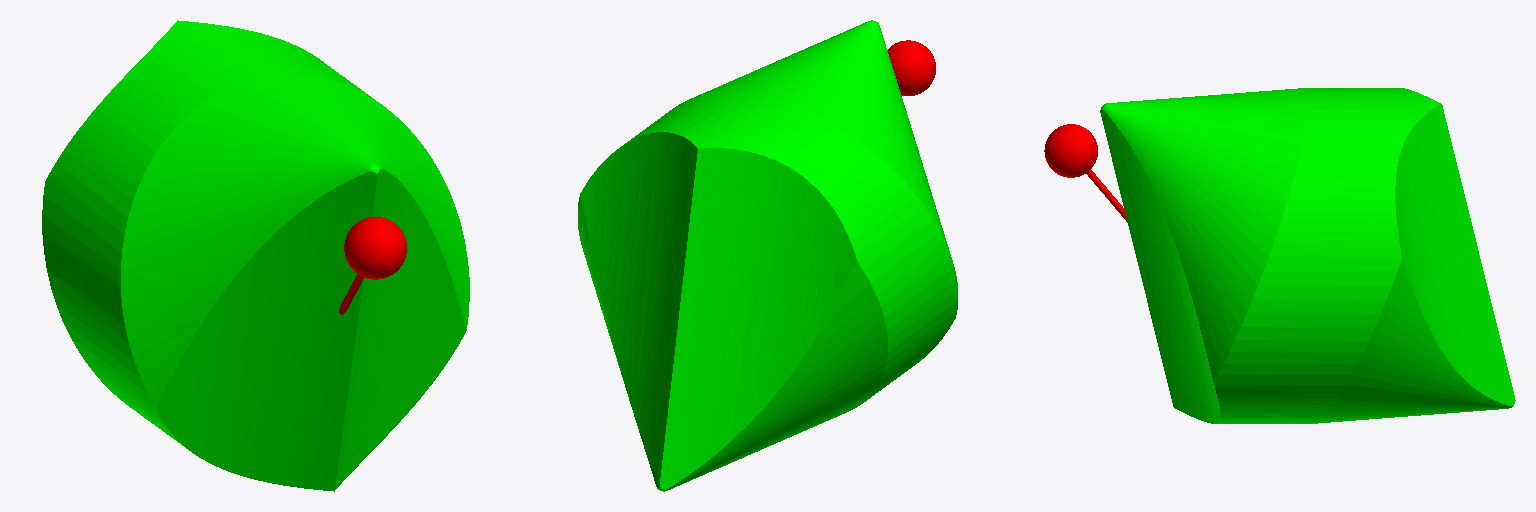
The robot description file, URDF, robot "balo":
<?xml version="1.0" ?>
<robot name="balo">
  <link name="pendulum_1">
    <visual name="pendulum_1_visual">
      <origin xyz="0 0 0" rpy="0 0 0"/>
      <geometry>
        <mesh filename="meshes/pendulum_1.stl"/>
      </geometry>
      <material name="pendulum_1-material">
        <color rgba="1 0 0 1"/>
      </material>
    </visual>
    <!-- <collision name="pendulum_1_collision">
      <origin xyz="0 0 0" rpy="0 0 0"/>
      <geometry>
        <mesh filename="meshes/pendulum_1.stl"/>
      </geometry>
    </collision> -->
    <inertial>
      <mass value="0.025374834"/>
      <inertia ixx="1.1946991e-06" iyy="9.7512826e-07" izz="8.4976843e-07" ixy="-2.7082465e-08" ixz="-3.3853081e-08" iyz="-2.7857741e-07"/>
      <origin xyz="0 0 0" rpy="0 0 0"/>
    </inertial>
  </link>
  <link name="shell_1">
    <visual name="shell_1_visual">
      <origin xyz="0 0 0" rpy="0 0 0"/>
      <geometry>
        <mesh filename="meshes/shell_1.stl"/>
      </geometry>
      <material name="shell_1-material">
        <color rgba="0 1 0 0.2"/>
      </material>
    </visual>
    <collision name="shell_1_collision">
      <origin xyz="0 0 0" rpy="0 0 0"/>
      <geometry>
        <mesh filename="meshes/shell_1.stl"/>
      </geometry>
    </collision>
    <inertial>
      <mass value="0.088972445"/>
      <inertia ixx="0.00016871499" iyy="0.00016409992" izz="0.00014338628" ixy="-9.9018315e-10" ixz="-2.1273976e-09" iyz="-4.8280764e-06"/>
      <origin xyz="-2.0417737e-06 -1.2557234e-07 6.5662558e-07" rpy="0 0 0"/>
    </inertial>
  </link>
  <joint name="Revolute_1" type="revolute">
    <origin xyz="0.0027313234 0.022476093 0.028095116" rpy="-2.2455373 0 0"/>
    <parent link="pendulum_1"/>
    <child link="shell_1"/>
    <axis xyz="0 0 -1"/>
    <limit effort="1" velocity="1" lower="-6.2831853" upper="6.2831853"/>
  </joint>
</robot>

--- What the picture shows (computed from the rendered views, not written in the file) ---
Views: 3 orthographic renders of the robot side by side, from view 1: azimuth 30°, elevation 25°; view 2: azimuth 150°, elevation 25°; view 3: azimuth 270°, elevation 25°.
Model balo with 2 links and 1 joints (1 revolute), rooted at pendulum_1, posed all joints at 0.
Visible links, largest first — view 1: shell_1, pendulum_1; view 2: shell_1, pendulum_1; view 3: shell_1, pendulum_1.
Link boxes in pixels (<box>): shell_1: <box>42,20,469,491</box>; pendulum_1: <box>339,217,406,314</box>; shell_1: <box>578,20,957,491</box>; pendulum_1: <box>887,40,935,95</box>; shell_1: <box>1100,88,1515,423</box>; pendulum_1: <box>1044,124,1127,222</box>.
Bounding box of the posed robot: 0.1 × 0.1404 × 0.1 m (x, y, z).
2 mesh visuals loaded from 2 distinct referenced files (2 binary STL).
